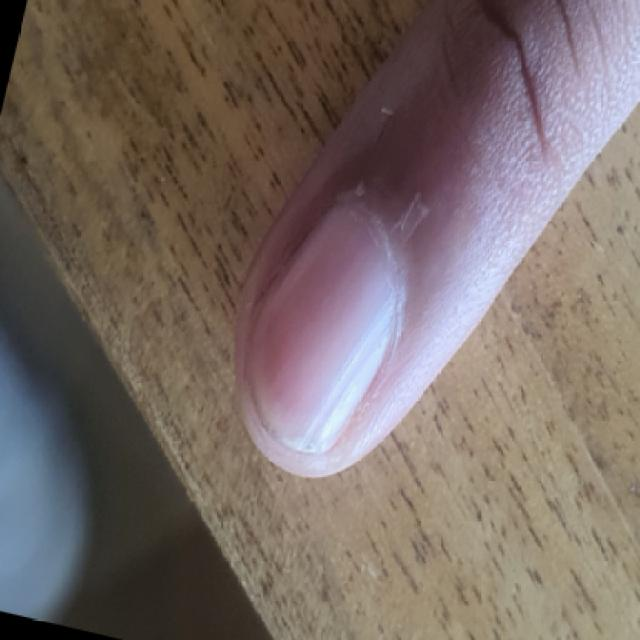Nail: (245, 207, 391, 453)
